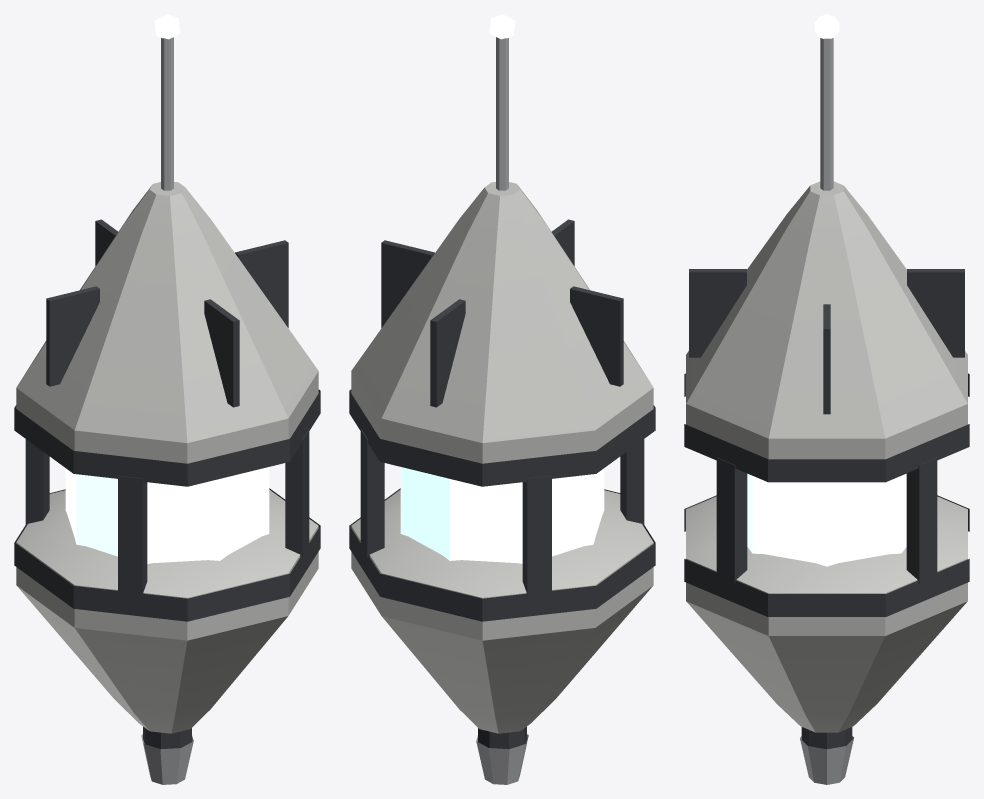
Rendered from buoy.glb.
3 views of the same model, side by side, from view 1: azimuth 30°, elevation 25°; view 2: azimuth 150°, elevation 25°; view 3: azimuth 270°, elevation 25° (orthographic).
Parts seen in each view (by area): view 1: body, core; view 2: body, core; view 3: body, core, light_tip.
Boxes of the visible parts, box(x1,y1,x2,y2) form: body: box(14, 37, 320, 784); core: box(65, 467, 269, 563); body: box(349, 37, 655, 784); core: box(400, 467, 604, 563); body: box(684, 38, 969, 784); core: box(747, 473, 906, 566); light_tip: box(814, 14, 839, 38).
Size of the model in its own units: 0.7853 by 2.32 by 0.7853.
